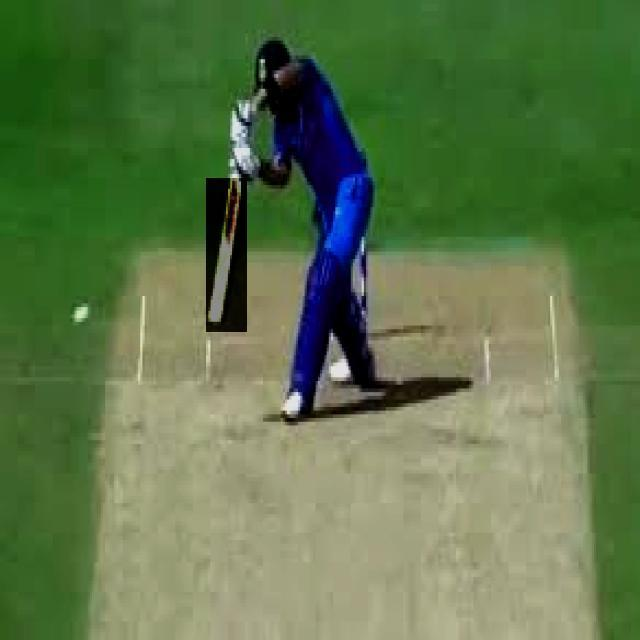bat: (205, 175, 244, 335)
toe: (200, 315, 227, 326)
